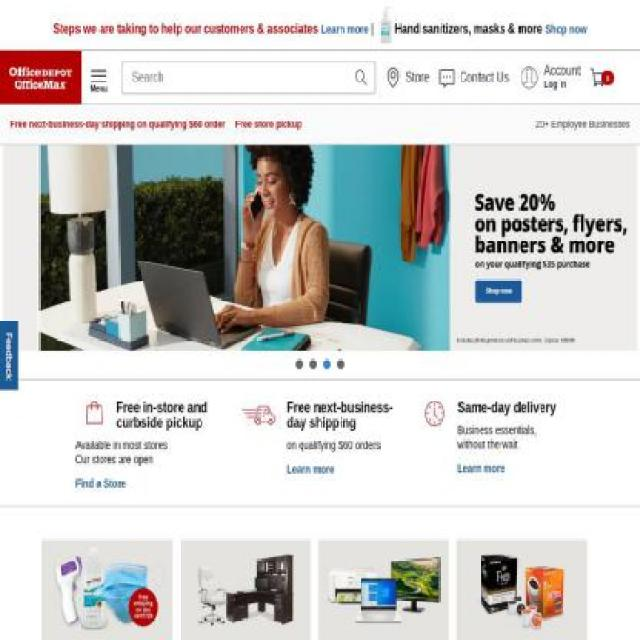button: (3, 145, 637, 352), (4, 104, 230, 144), (0, 50, 82, 104), (434, 50, 514, 104), (530, 104, 636, 144), (513, 50, 585, 104), (230, 104, 307, 144), (380, 50, 435, 104), (585, 50, 630, 104), (0, 319, 18, 390), (75, 472, 127, 496), (457, 456, 506, 481), (81, 60, 116, 94), (286, 457, 334, 481), (0, 145, 3, 352), (637, 145, 640, 352), (295, 358, 303, 369), (309, 358, 317, 369), (323, 358, 331, 369), (337, 358, 345, 369)
field: (121, 61, 348, 94)
